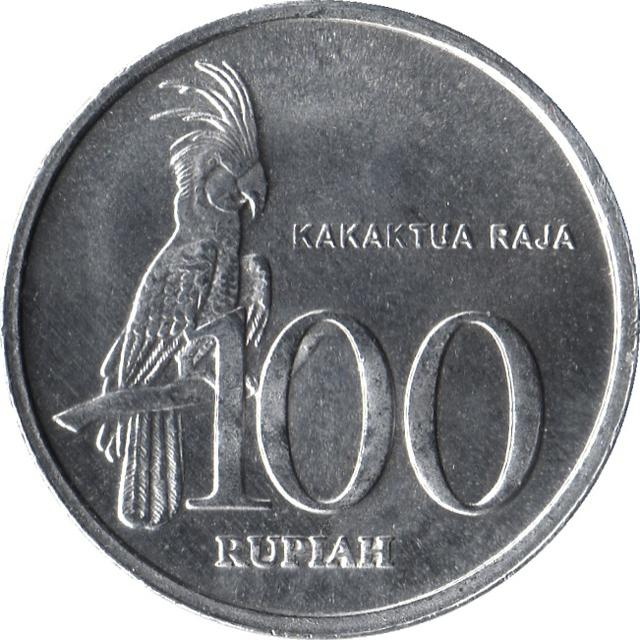500-silver: (5, 3, 638, 635)
